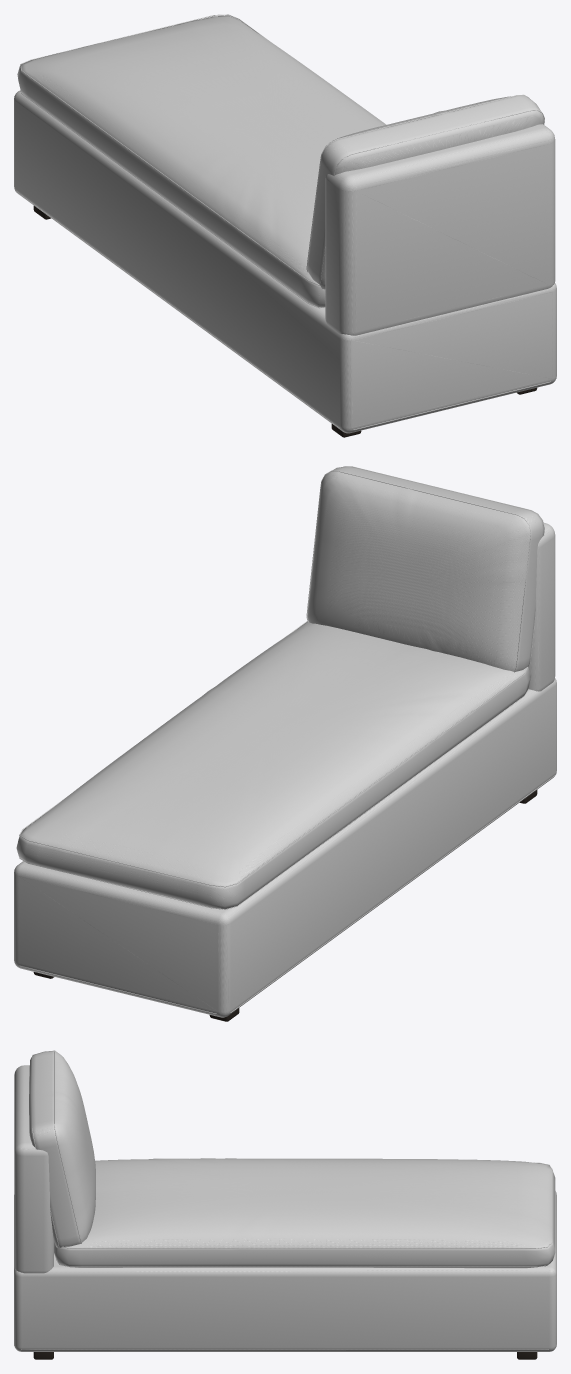
The model's file is chaise-soft.glb.
The picture shows the model from 3 angles, top to bottom: view 1: azimuth 30°, elevation 25°; view 2: azimuth 150°, elevation 25°; view 3: azimuth 270°, elevation 25°; orthographic projection. The views are drawn at different scales.
Parts seen in each view (by area): view 1: Soft upholstered chaise base, Full-length sewn seat, Upholstered back support, Loose full-width back cushion, Full-length sewn seat · upper stitched edge, Base lower sewn seam; view 2: Full-length sewn seat, Soft upholstered chaise base, Loose full-width back cushion, Upholstered back support, Full-length sewn seat · upper stitched edge, Loose full-width back cushion · upper stitched edge, Base lower sewn seam; view 3: Full-length sewn seat, Soft upholstered chaise base, Loose full-width back cushion, Upholstered back support, Full-length sewn seat · lower stitched edge, Full-length sewn seat · upper stitched edge, Base lower sewn seam.
Boxes of the visible parts, left/top/right/bottom form: Soft upholstered chaise base: left=14, top=90, right=556, bottom=433; Full-length sewn seat: left=17, top=15, right=386, bottom=307; Upholstered back support: left=325, top=124, right=555, bottom=335; Loose full-width back cushion: left=307, top=95, right=544, bottom=289; Full-length sewn seat · upper stitched edge: left=20, top=14, right=319, bottom=285; Base lower sewn seam: left=15, top=190, right=550, bottom=430; Full-length sewn seat: left=16, top=622, right=530, bottom=909; Soft upholstered chaise base: left=14, top=678, right=556, bottom=1017; Loose full-width back cushion: left=307, top=466, right=544, bottom=671; Upholstered back support: left=528, top=523, right=555, bottom=691; Full-length sewn seat · upper stitched edge: left=19, top=621, right=528, bottom=887; Loose full-width back cushion · upper stitched edge: left=306, top=470, right=531, bottom=672; Base lower sewn seam: left=19, top=775, right=555, bottom=1014; Full-length sewn seat: left=54, top=1158, right=555, bottom=1268; Soft upholstered chaise base: left=14, top=1191, right=556, bottom=1351; Loose full-width back cushion: left=29, top=1050, right=95, bottom=1248; Upholstered back support: left=14, top=1065, right=53, bottom=1273; Full-length sewn seat · lower stitched edge: left=56, top=1259, right=552, bottom=1267; Full-length sewn seat · upper stitched edge: left=62, top=1162, right=552, bottom=1248; Base lower sewn seam: left=14, top=1345, right=556, bottom=1349.
Bounding box in the file's own units: 0.6588 × 0.8317 × 1.75.
Materials: 2 (1 with a texture image).
